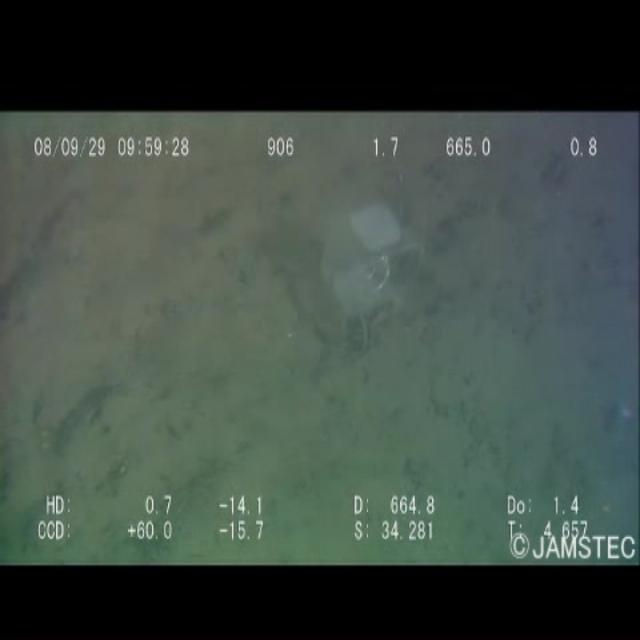Cutlery: (322, 171, 433, 331)
